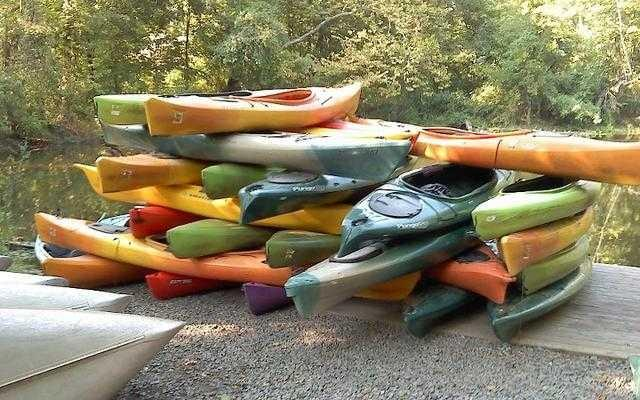kayak: (34, 207, 341, 289), (90, 169, 390, 225), (0, 309, 189, 397), (142, 82, 364, 137), (175, 132, 413, 182), (27, 239, 145, 296), (0, 270, 132, 313)
